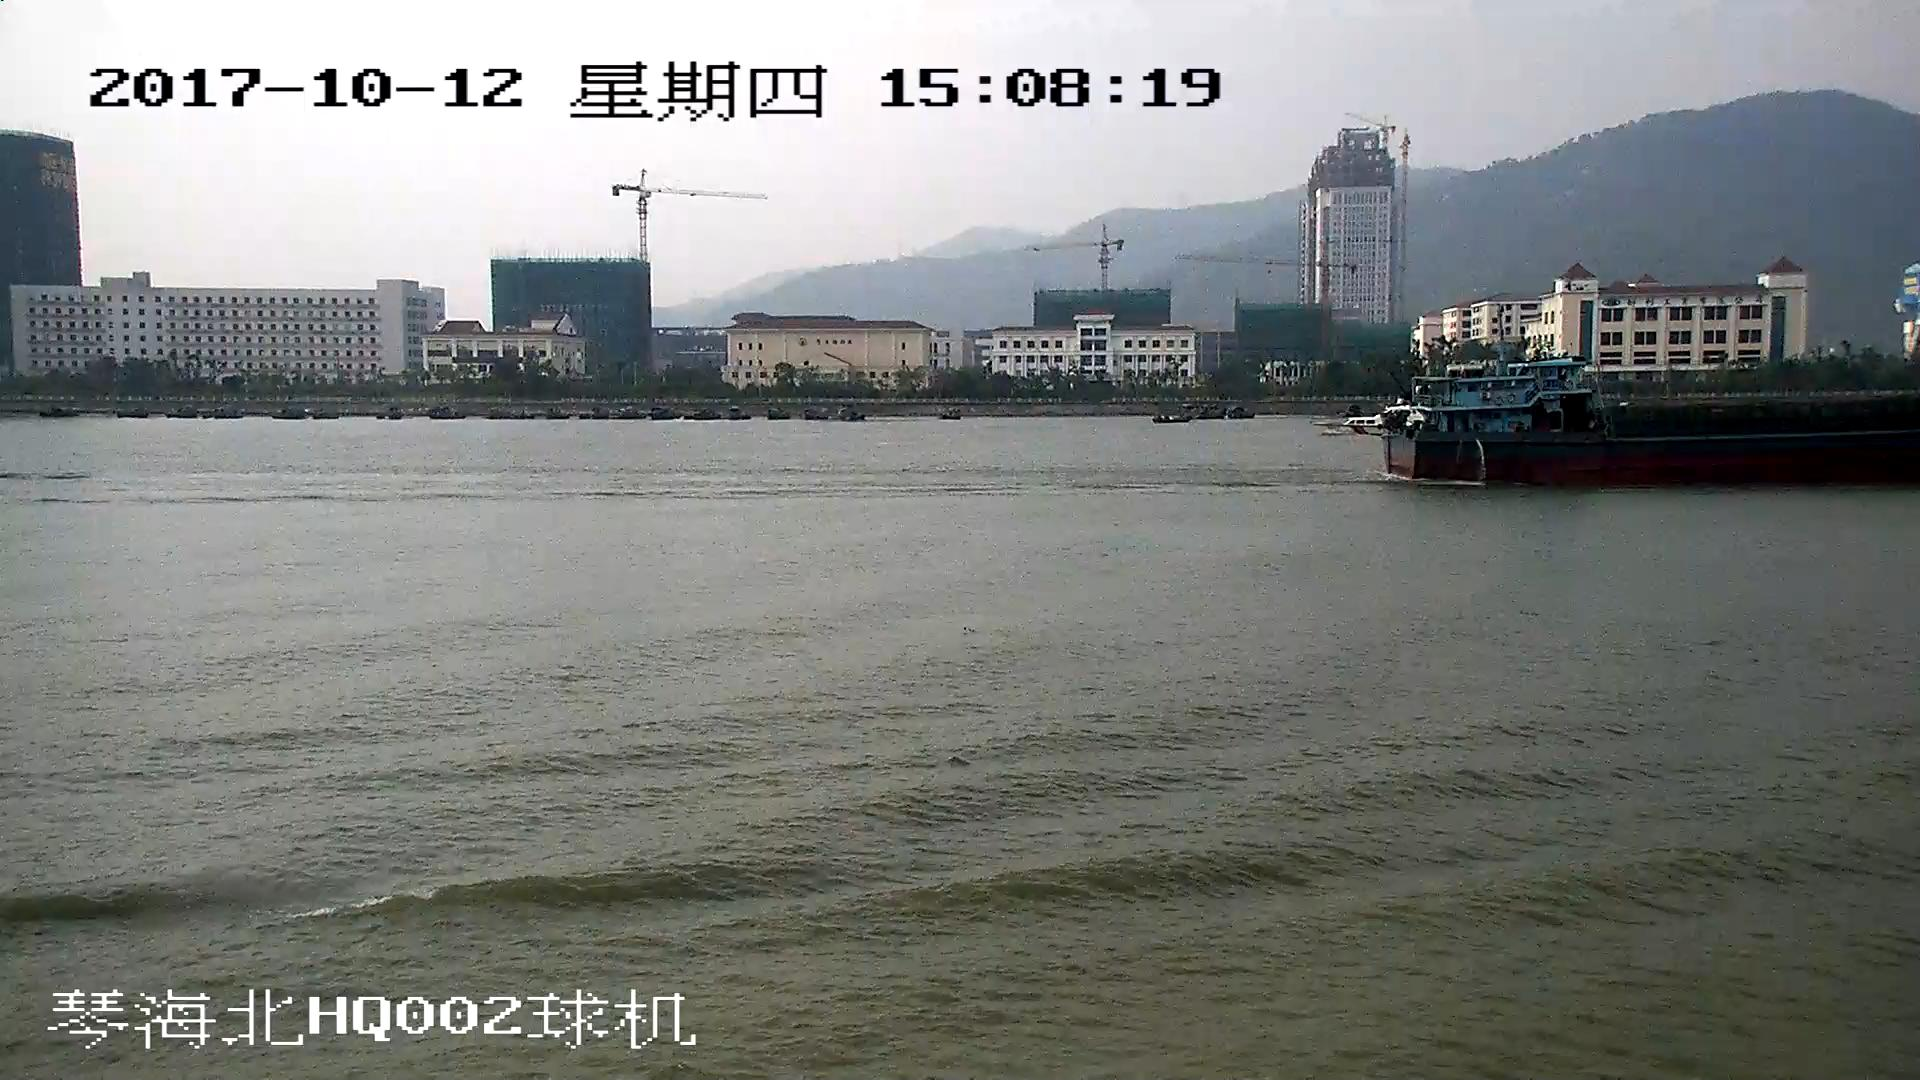bulk cargo carrier: (1377, 365, 1920, 492)
